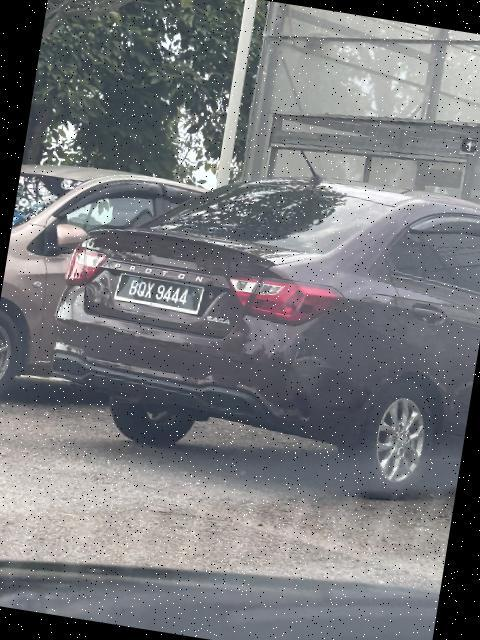License_Plate: (114, 272, 207, 317)
car: (30, 133, 480, 518)
